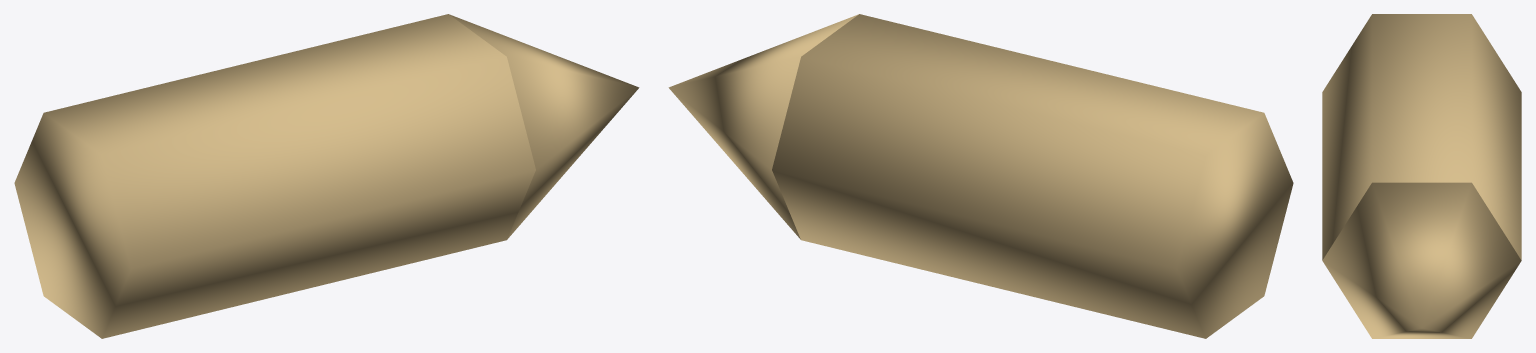
Rendered from boolet.fbx.
3 renders of one model, left to right at view 1: azimuth 30°, elevation 25°; view 2: azimuth 150°, elevation 25°; view 3: azimuth 270°, elevation 25°, orthographic. The views are drawn at different scales.
Visible parts, largest first — view 1: Cylinder, Cone; view 2: Cylinder, Cone; view 3: Cylinder, Cone.
Boxes of the visible parts, x1=… form: Cylinder: x1=14, y1=14, x2=535, y2=338; Cone: x1=449, y1=14, x2=639, y2=239; Cylinder: x1=772, y1=14, x2=1293, y2=338; Cone: x1=668, y1=14, x2=858, y2=239; Cylinder: x1=1322, y1=14, x2=1521, y2=259; Cone: x1=1322, y1=182, x2=1521, y2=338.
Size of the model in its own units: 0.14 by 0.0433 by 0.05.
